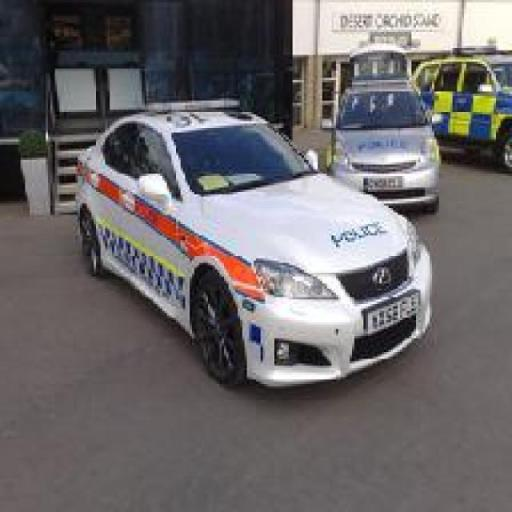Ambulance: (80, 104, 435, 394), (336, 74, 436, 220), (429, 48, 512, 189)
